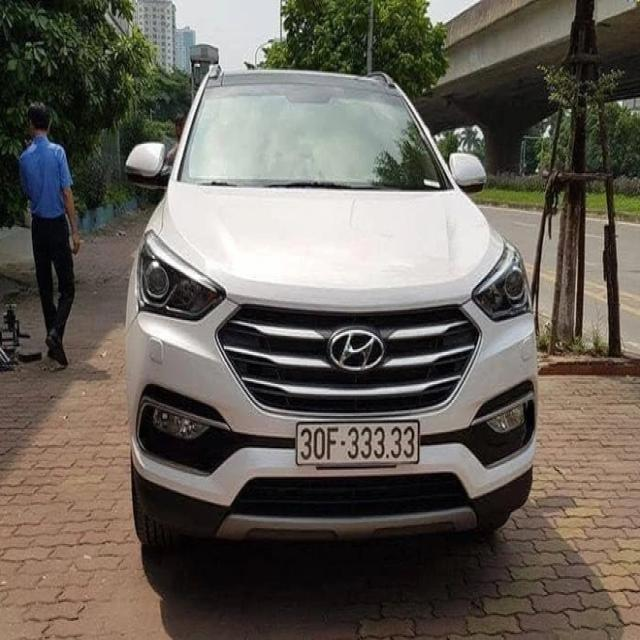car: (126, 55, 531, 560)
plate: (289, 417, 427, 472)
